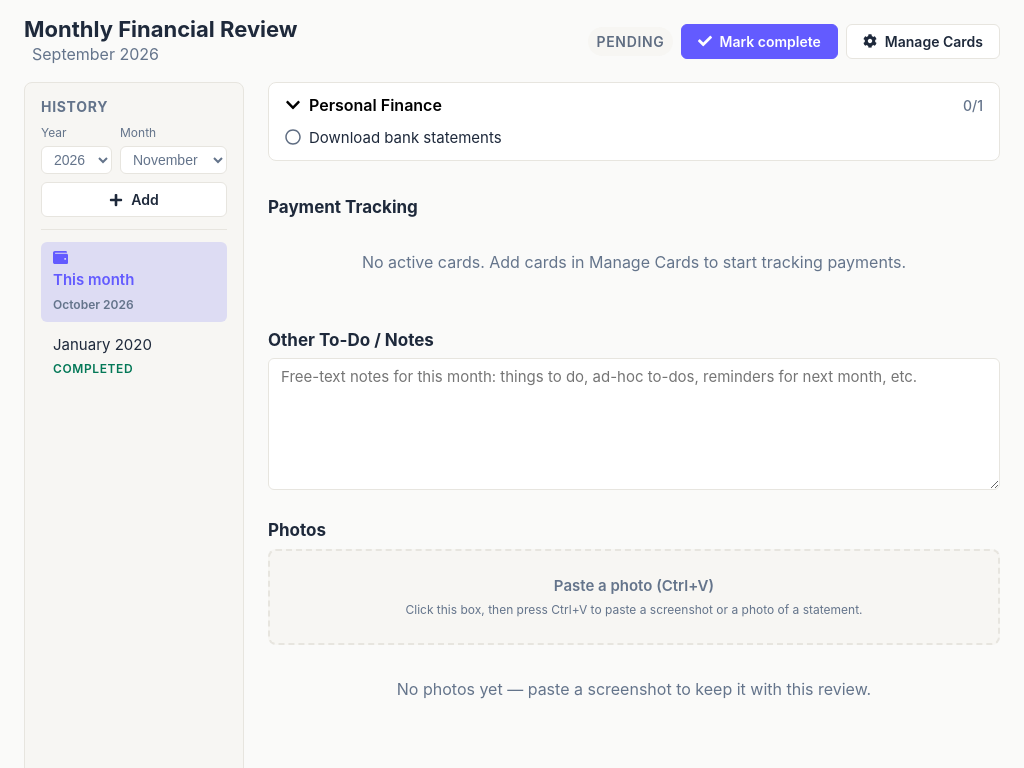
Test: MonthlyReview — where the step lives › renders no filing step at all on a past month
The width and height of the screenshot is (1024, 768).
Step 1. Click the list item "January 2020" → (102, 355), box [53,335,152,376]
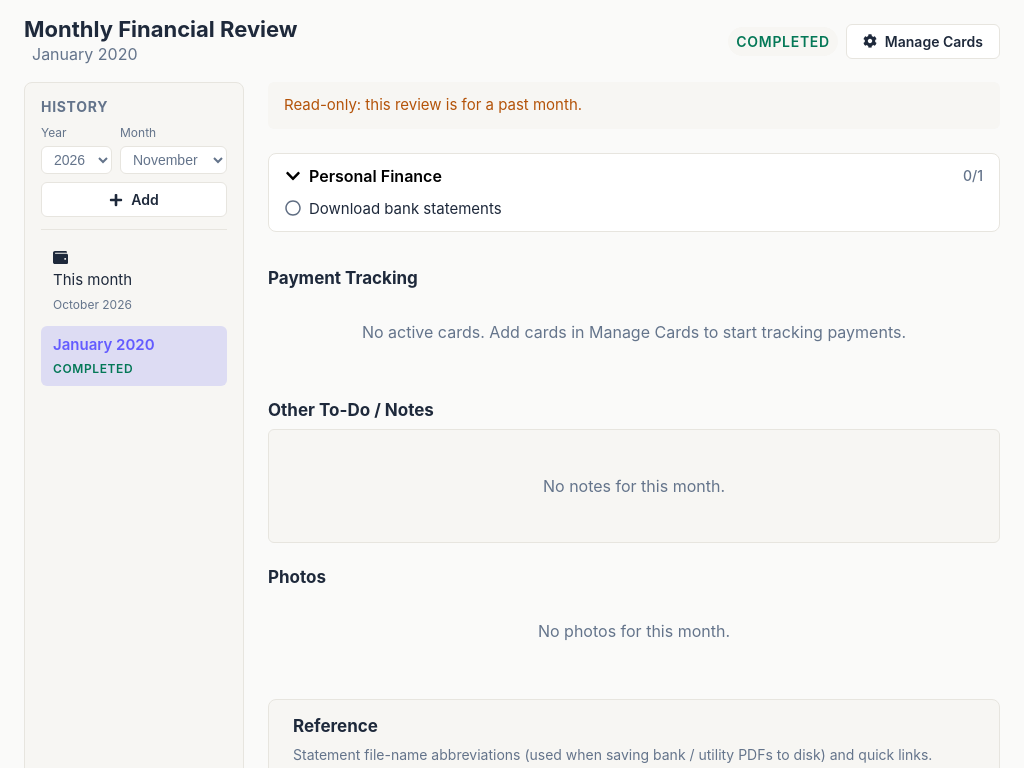
Check: the text "Read-only: this review is for a past month." is shown, box [268,82,1000,129]
